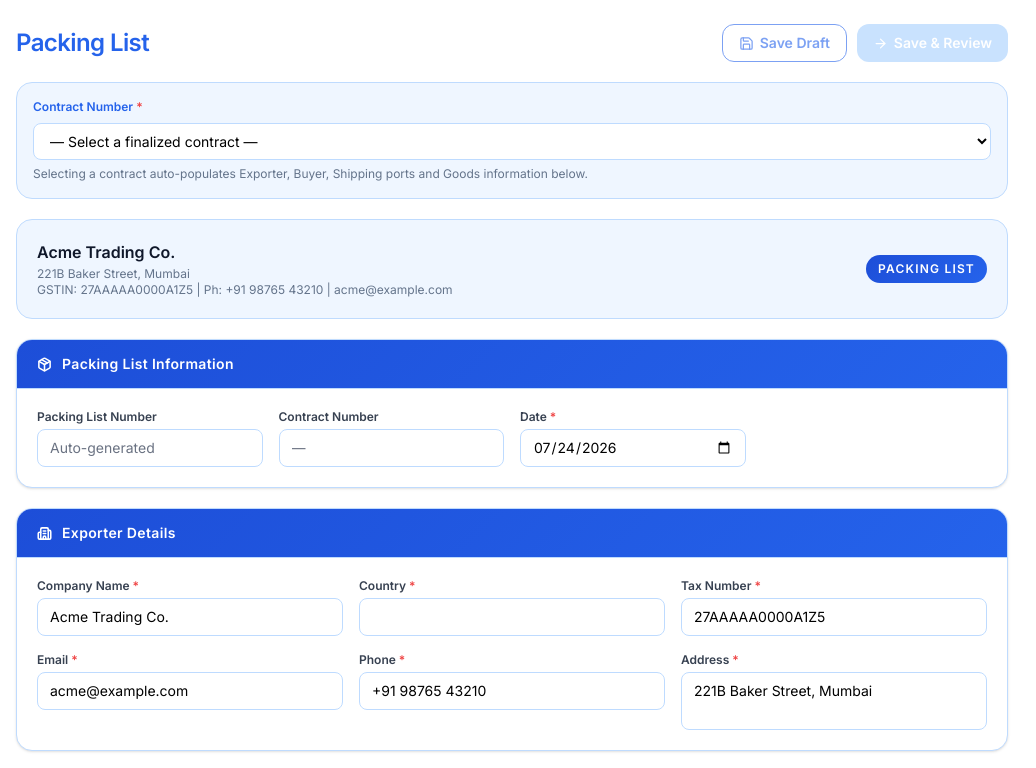
Test: PackingListPage › selects a contract and auto-populates exporter, buyer, shipping and packing item details
Select "CNT/2024/001 • Buyer: Jane Buyer • Seller: John Seller" in the dropdown "— Select a finalized contract —" at (512,142), box [33,123,991,160]
(page scrolled)
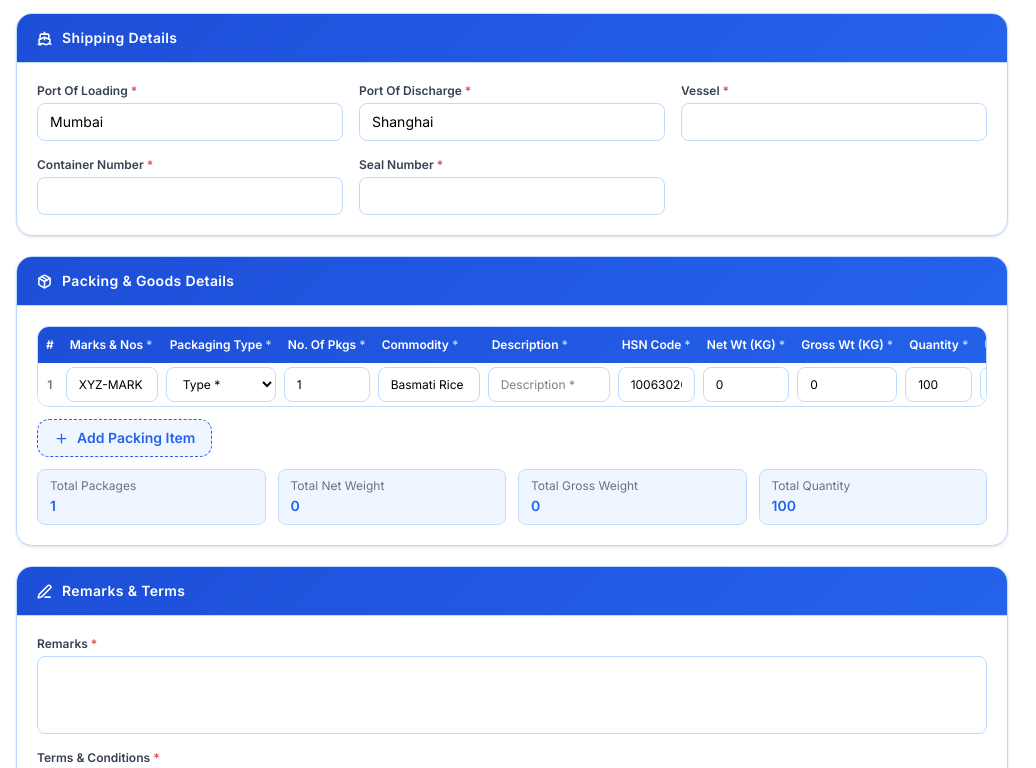
Result: the field showing "Mumbai" below "Port Of Loading" is shown at [37,103,343,141]
Result: the field showing "Shanghai" below "Port Of Discharge" is shown at [359,103,665,141]
Result: the 8th field showing "Basmati Rice" is shown at [378,367,480,402]
